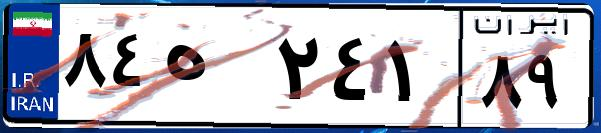1: (385, 28, 445, 110)
2: (270, 28, 330, 110)
4: (330, 28, 385, 110), (110, 28, 158, 98)
8: (57, 26, 110, 100), (475, 38, 525, 113)
9: (525, 38, 570, 115)
ه: (158, 20, 270, 120)
